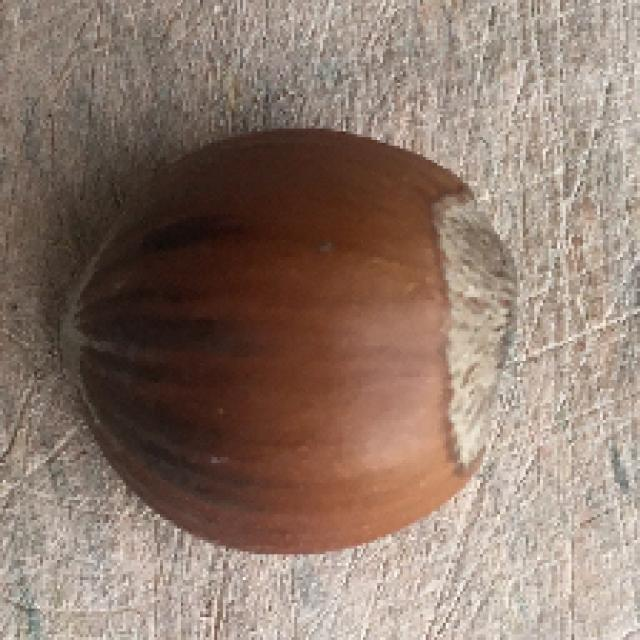damagedHazelnut: (68, 123, 532, 553)
